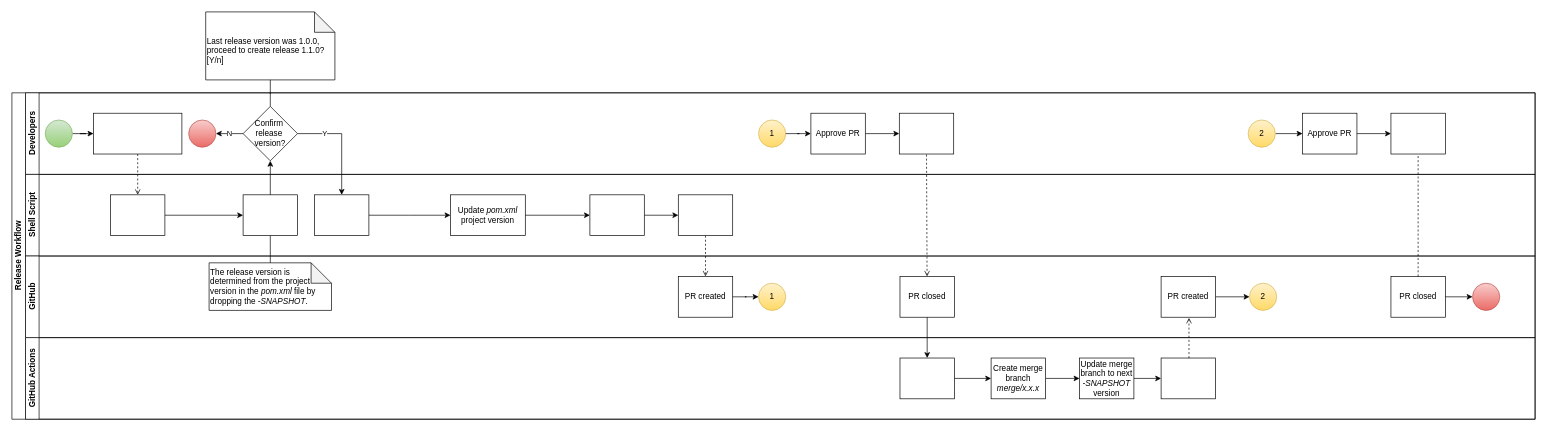
Some shapes in this 1547 by 431 pixel diagram are drawn without their labels. Here are the shapes that lost their labels. From the top down, the centre of each, then its label:
At pixel 137 133: "Kick-off Release make release [ commit_hash=d56cc2 ]".
At pixel 926 133: "Merge release/x.x.x into master".
At pixel 1417 133: "Merge merge/x.x.x into develop".
At pixel 137 215: "Checkout Git latest commit or commit with provided hash".
At pixel 270 215: "Determine release version x.x.x".
At pixel 341 215: "Create release branch release/x.x.x".
At pixel 616 215: "Push release branch to origin".
At pixel 705 215: "Create PR to merge release/x.x.x to master".
At pixel 926 378: "Build, publish and tag release".
At pixel 1188 378: "Create PR to merge merge/x.x.x to develop".
